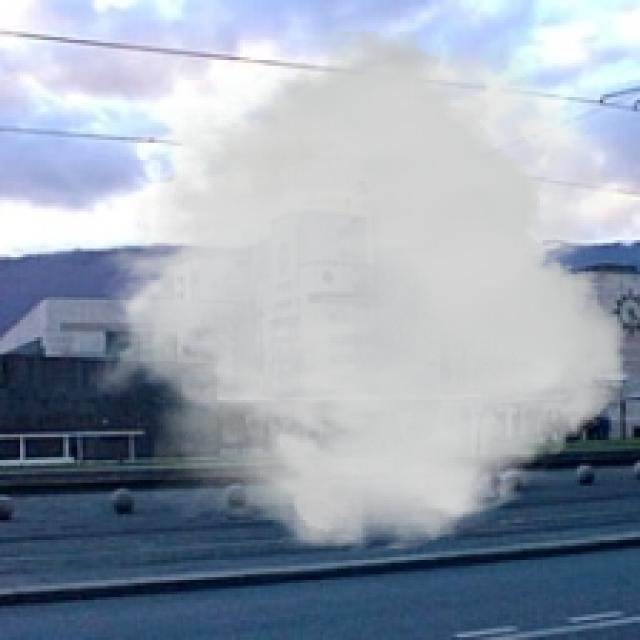smoke: (85, 32, 626, 557)
